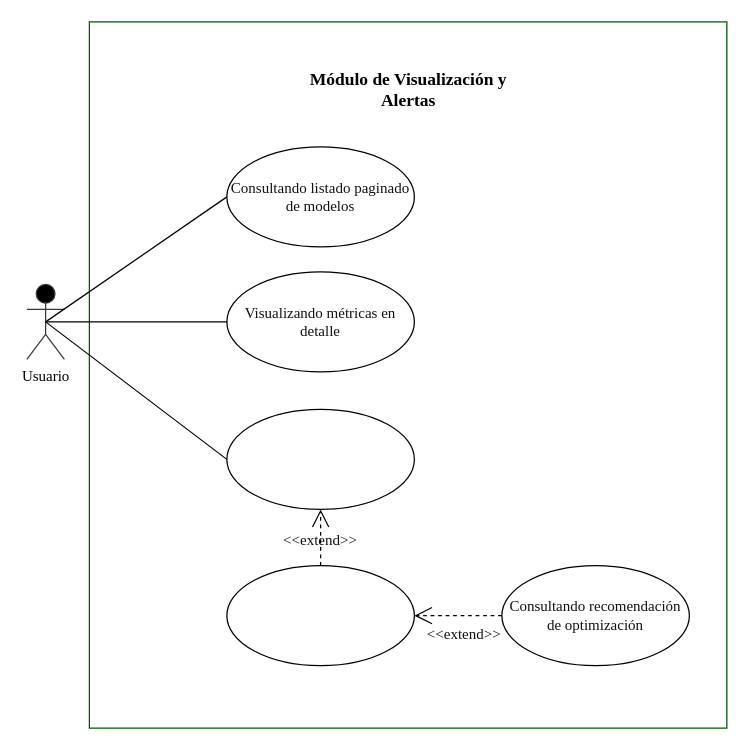
Some shapes in this 749 by 750 pixel diagram are drawn without their labels. Here are the shapes that lost their labels. From the top down, the centre of each, then its label:
the point at 320,458: Evaluando viabilidad del modelo (Semaforo)
the point at 320,615: Desplegando advertencia destacada (Banner)
